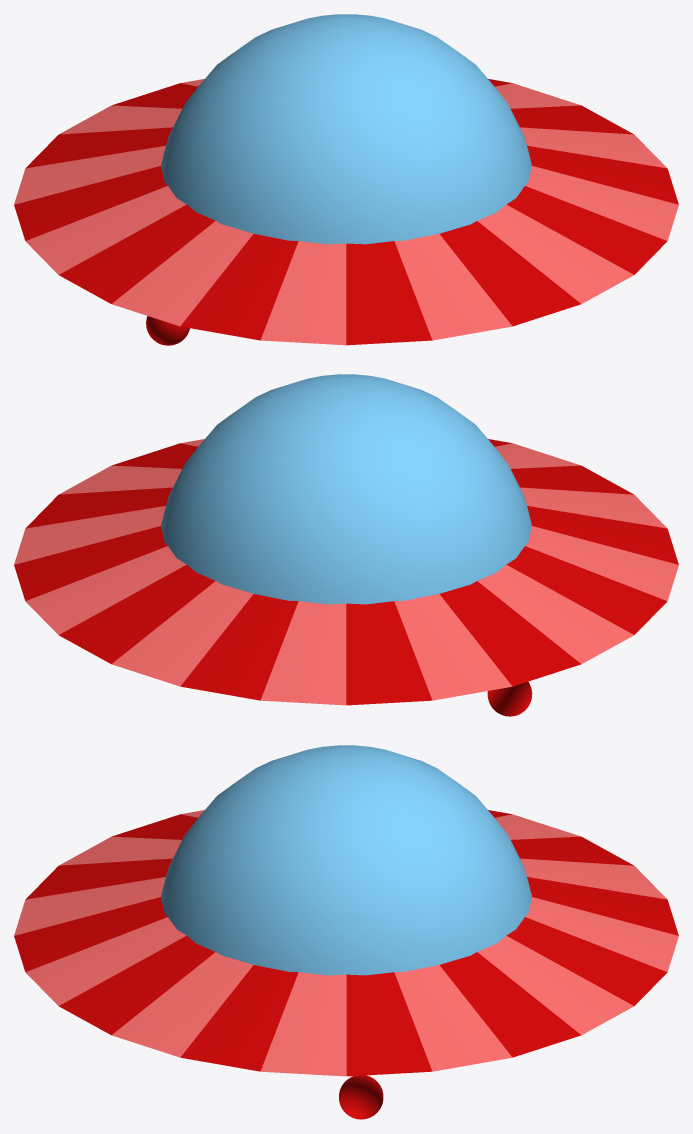
The picture shows the model from 3 angles, top to bottom: view 1: azimuth 30°, elevation 25°; view 2: azimuth 150°, elevation 25°; view 3: azimuth 270°, elevation 25°; orthographic projection.
Parts seen in each view (by area): view 1: Sphere001; view 2: Sphere001; view 3: Sphere001.
Part boxes in pixels (box(x1,y1,x2,y2)): Sphere001: box(14, 14, 678, 345); Sphere001: box(14, 374, 678, 716); Sphere001: box(14, 745, 678, 1119).
Size of the model in its own units: 94.22 by 43.1 by 94.22.
